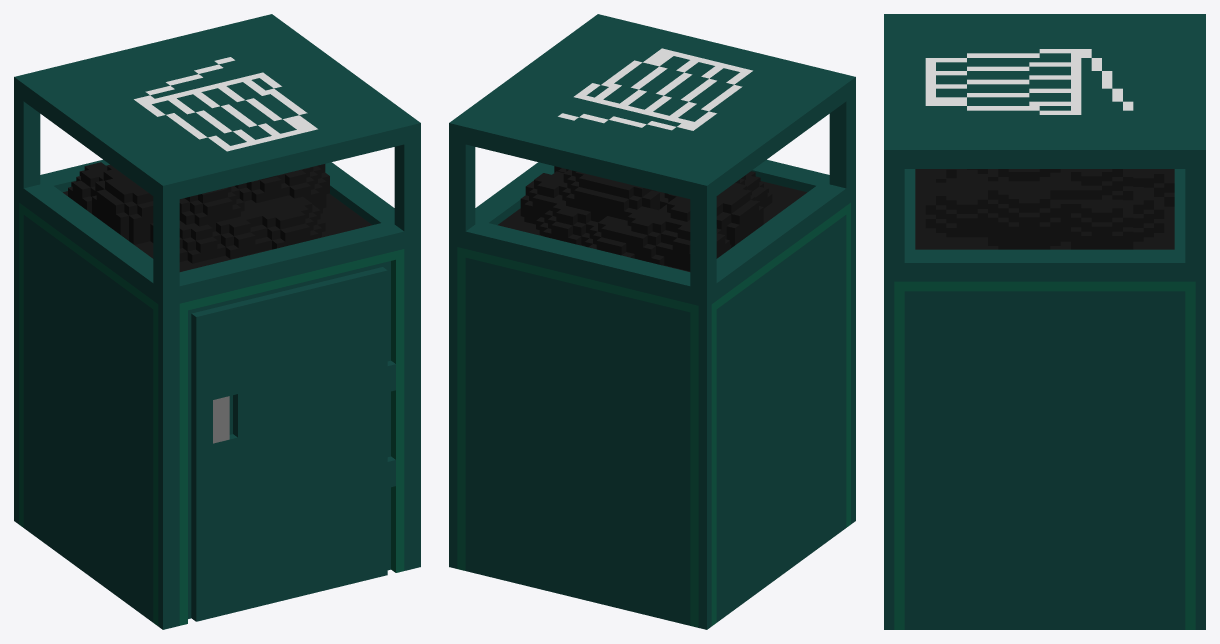
Rendered from Bin.fbx.
3 renders of one model, left to right at view 1: azimuth 30°, elevation 25°; view 2: azimuth 150°, elevation 25°; view 3: azimuth 270°, elevation 25°, orthographic. The views are drawn at different scales.
Parts seen in each view (by area): view 1: Bin:Mesh; view 2: Bin:Mesh; view 3: Bin:Mesh.
Part boxes in pixels (x1=…): Bin:Mesh: x1=14, y1=14, x2=420, y2=629; Bin:Mesh: x1=449, y1=14, x2=855, y2=629; Bin:Mesh: x1=884, y1=14, x2=1205, y2=629.
Size of the model in its own units: 31 by 51 by 31.
1 material, 1 textured.
